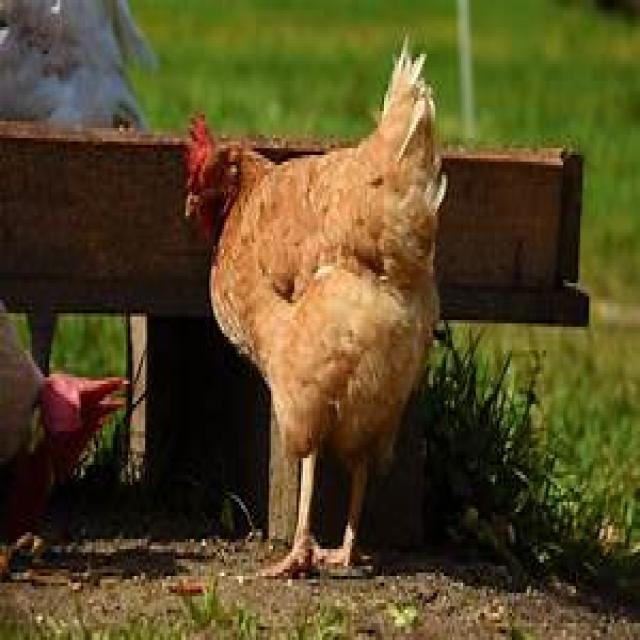chicken: (187, 59, 443, 572)
